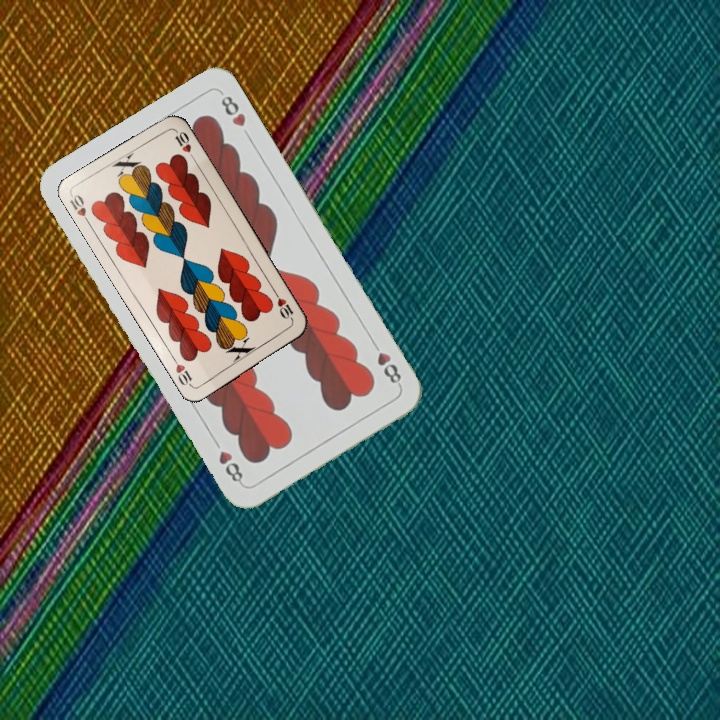H10: (66, 190, 93, 228), (270, 288, 296, 325)
H8: (367, 336, 404, 389)
